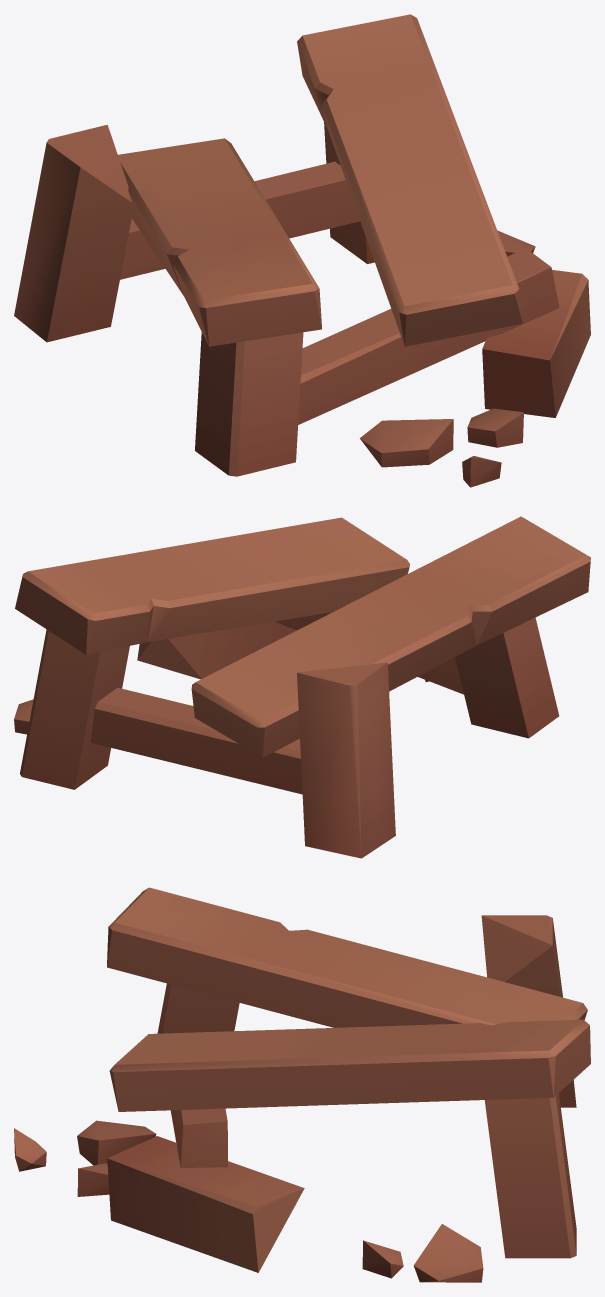
The model's file is table_medium_broken.glb.
3 views of the same model, one above another, from view 1: azimuth 30°, elevation 25°; view 2: azimuth 150°, elevation 25°; view 3: azimuth 270°, elevation 25° (orthographic). The views are drawn at different scales.
Parts seen in each view (by area): view 1: table_medium_broken; view 2: table_medium_broken; view 3: table_medium_broken.
Boxes of the visible parts, x1,y1,x2,y2 form: table_medium_broken: (14,14,590,487); table_medium_broken: (14,516,590,858); table_medium_broken: (14,887,590,1282).
Size of the model in its own units: 2.28 by 0.9718 by 2.43.
Materials: 1 (1 with a texture image).
